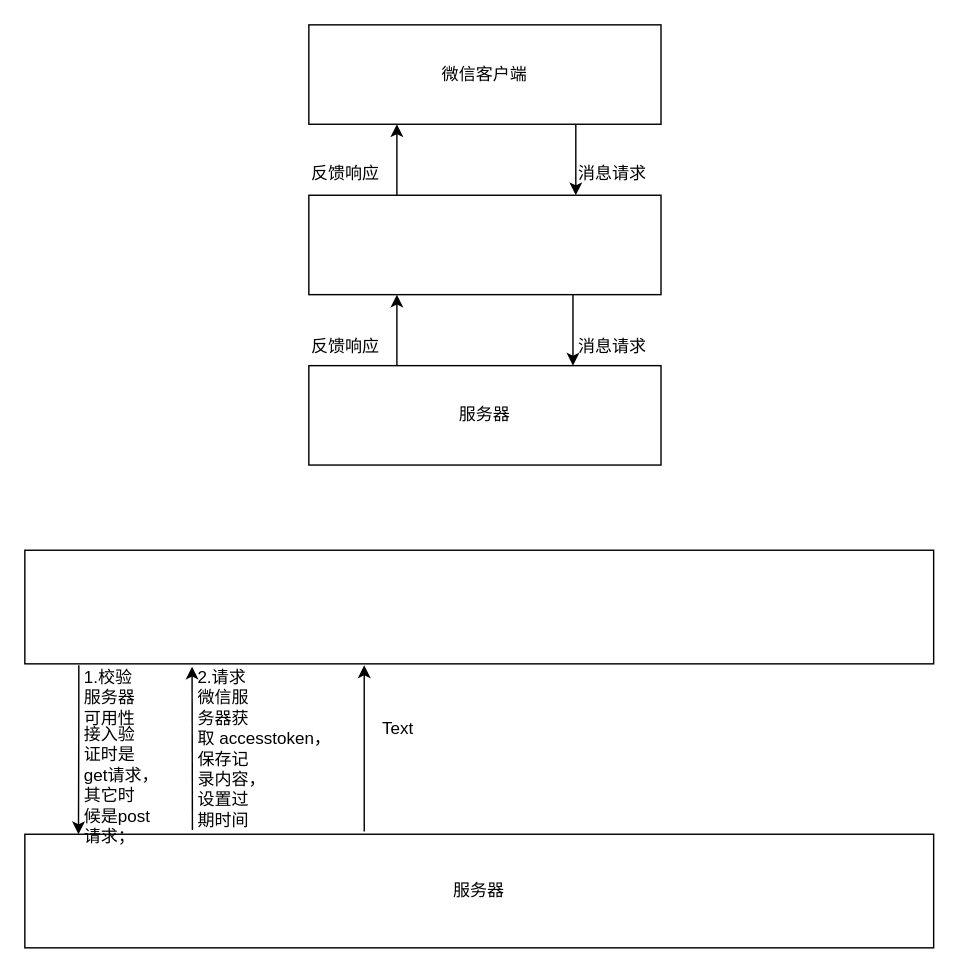
Some shapes in this 959 by 973 pixel diagram are drawn without their labels. The shapes that lost their labels are listed below. From the top down, each one's centre as x and y in pixels, then its label:
At (x=484, y=244): "微信服务器（公众号）".
At (x=478, y=606): "微信服务器".
